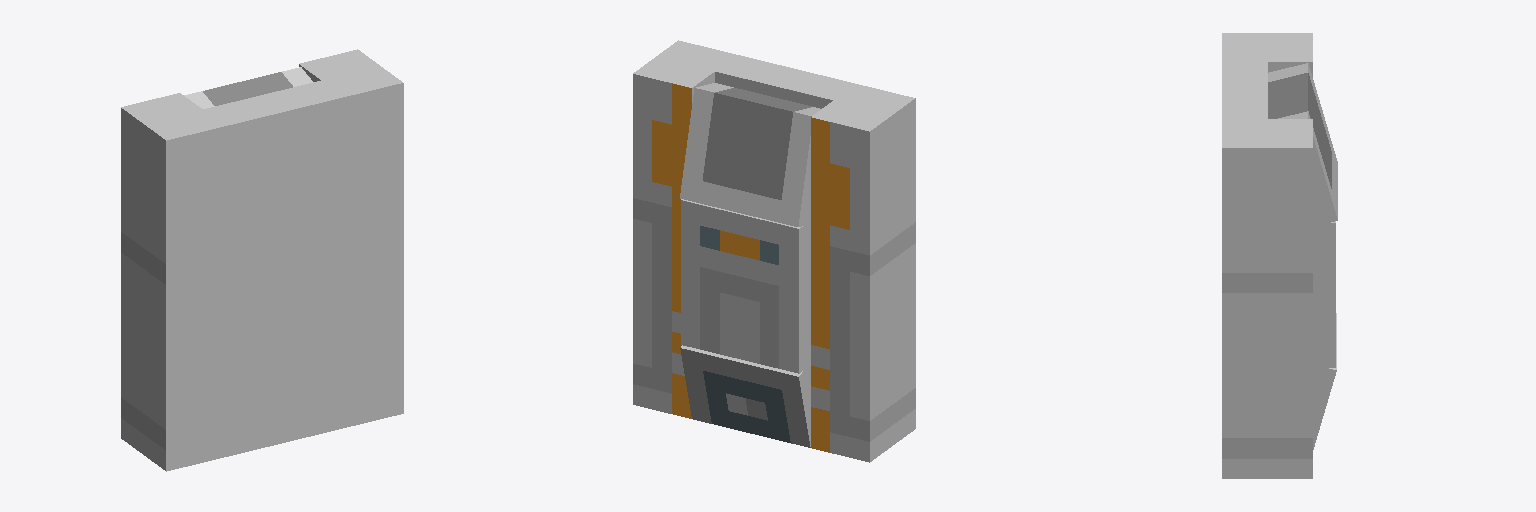
3 renders of one model, left to right at view 1: azimuth 30°, elevation 25°; view 2: azimuth 150°, elevation 25°; view 3: azimuth 270°, elevation 25°, orthographic.
Visible parts, largest first — view 1: cube; view 2: cube; view 3: cube.
Part boxes in pixels (x1,y1,x2,y2): cube: (121, 49, 403, 471); cube: (633, 40, 915, 462); cube: (1222, 33, 1337, 478).
Size of the model in its own units: 0.75 by 1 by 0.3174.
1 materials, 1 textured.